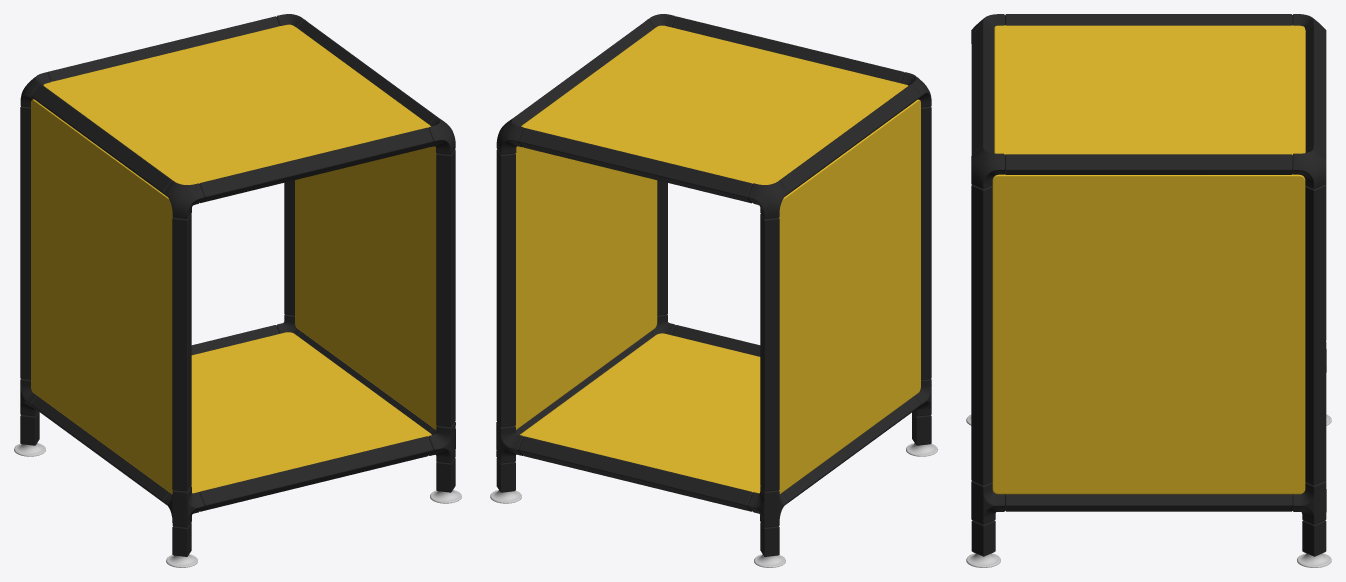
The picture shows the model from 3 angles, left to right: view 1: azimuth 30°, elevation 25°; view 2: azimuth 150°, elevation 25°; view 3: azimuth 270°, elevation 25°; orthographic projection. The views are drawn at different scales.
Parts seen in each view (by area): view 1: 329x329x374; view 2: 329x329x374; view 3: 329x329x374.
Part boxes in pixels (x1=…): 329x329x374: x1=14, y1=14, x2=461, y2=567; 329x329x374: x1=490, y1=14, x2=937, y2=567; 329x329x374: x1=966, y1=14, x2=1331, y2=567.
Bounding box in the file's own units: 0.4189 × 0.5133 × 0.4183.
